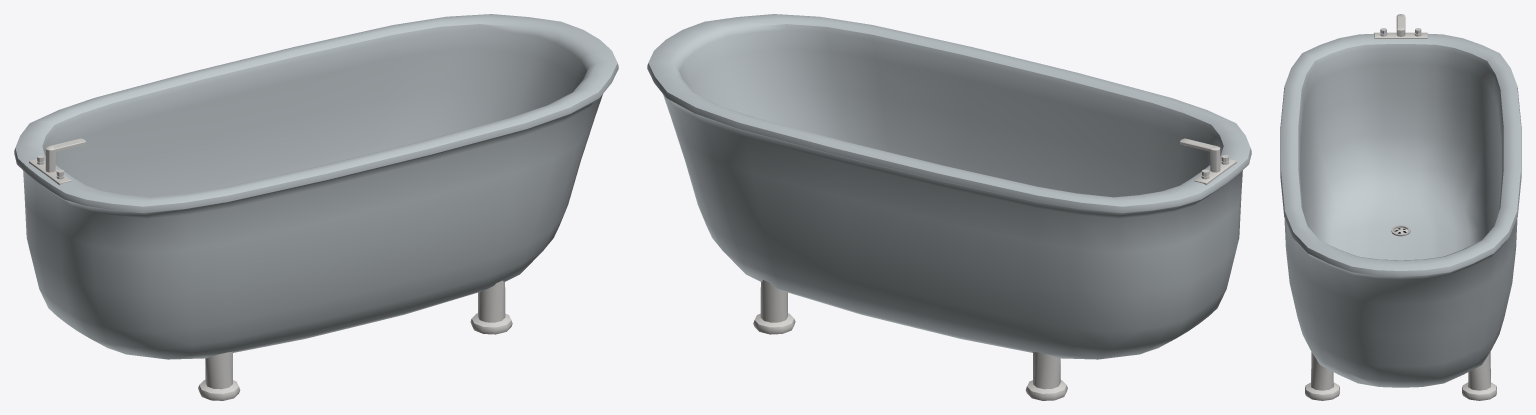
The model's file is bath.obj.
3 renders of one model, left to right at view 1: azimuth 30°, elevation 25°; view 2: azimuth 150°, elevation 25°; view 3: azimuth 270°, elevation 25°, orthographic. The views are drawn at different scales.
Parts seen in each view (by area): view 1: Cube.001; view 2: Cube.001; view 3: Cube.001.
Part boxes in pixels (x1,y1,x2,y2): Cube.001: (14, 14, 618, 400); Cube.001: (647, 14, 1251, 400); Cube.001: (1280, 14, 1521, 400).
Size of the model in its own units: 1.6 by 0.6647 by 0.6862.
